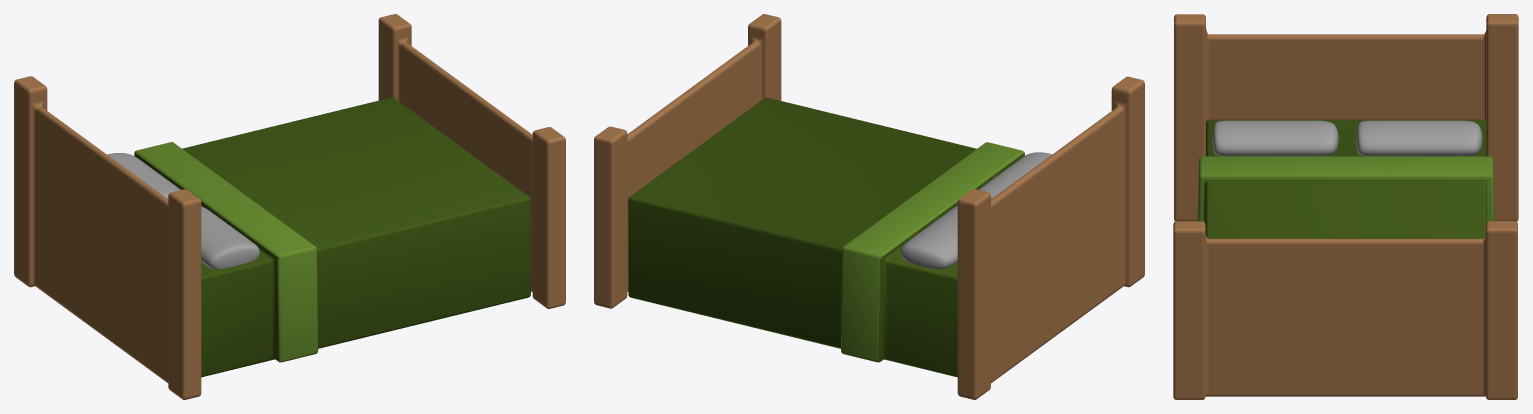
Rendered from Bed.fbx.
3 views of the same model, side by side, from view 1: azimuth 30°, elevation 25°; view 2: azimuth 150°, elevation 25°; view 3: azimuth 270°, elevation 25° (orthographic).
Parts seen in each view (by area): view 1: Plane, Plane.001, Plane.002, Cube, Cube.001; view 2: Plane, Plane.001, Plane.002, Cube.001, Cube; view 3: Plane.002, Plane.001, Plane, Cube, Cube.001.
Part boxes in pixels (box(x1,y1,x2,y2)): Plane: box(134, 97, 530, 377); Plane.001: box(14, 76, 201, 399); Plane.002: box(378, 14, 565, 308); Cube: box(201, 206, 259, 269); Cube.001: box(107, 153, 180, 198); Plane: box(628, 97, 1024, 377); Plane.001: box(957, 76, 1144, 399); Plane.002: box(594, 14, 781, 308); Cube.001: box(900, 206, 957, 269); Cube: box(978, 152, 1051, 198); Plane.002: box(1173, 221, 1517, 399); Plane.001: box(1174, 14, 1518, 221); Plane: box(1197, 119, 1494, 238); Cube: box(1212, 120, 1338, 156); Cube.001: box(1356, 120, 1482, 156).
Bounding box in the file's own units: 698 × 344 × 536.
